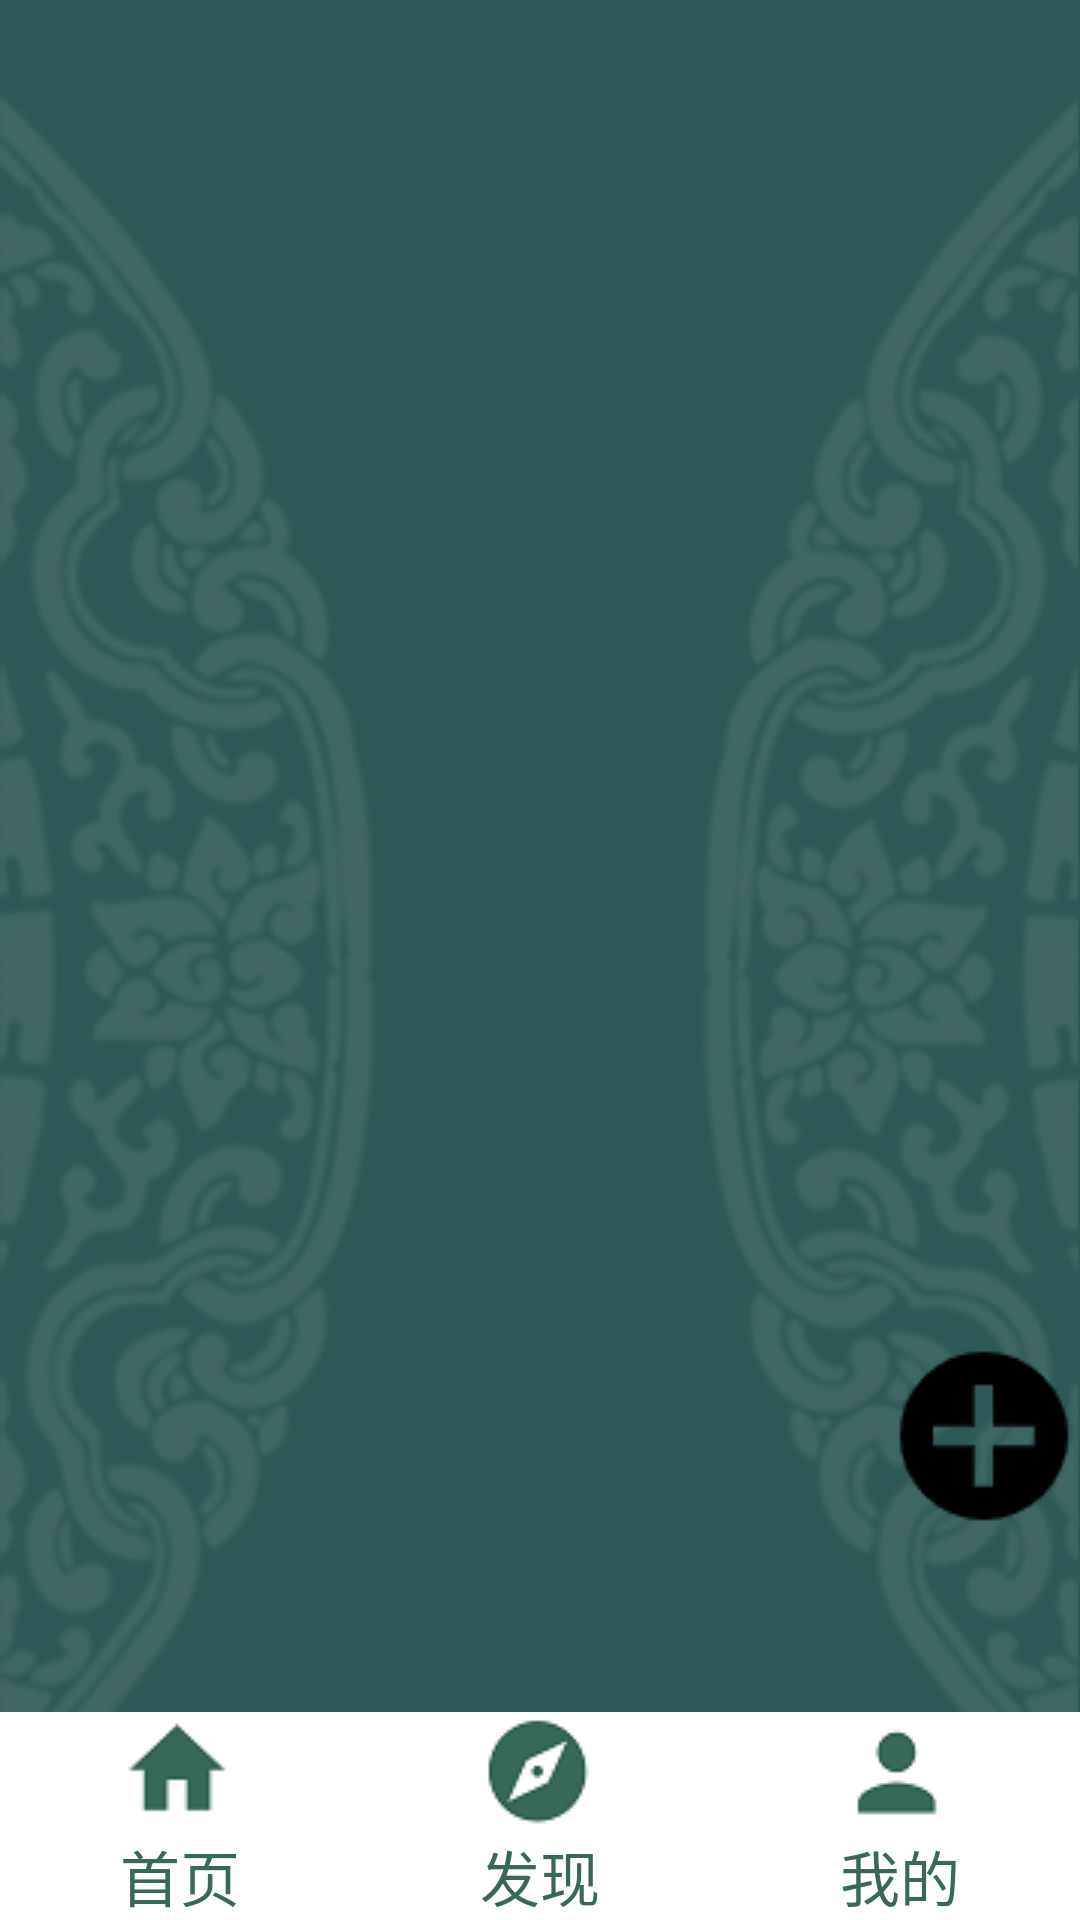

Named icons in this screenshot (1080 × 1920) and their bounding boxes, [x1,y1,x2,y2]:
add: [900,1351,1069,1520]
